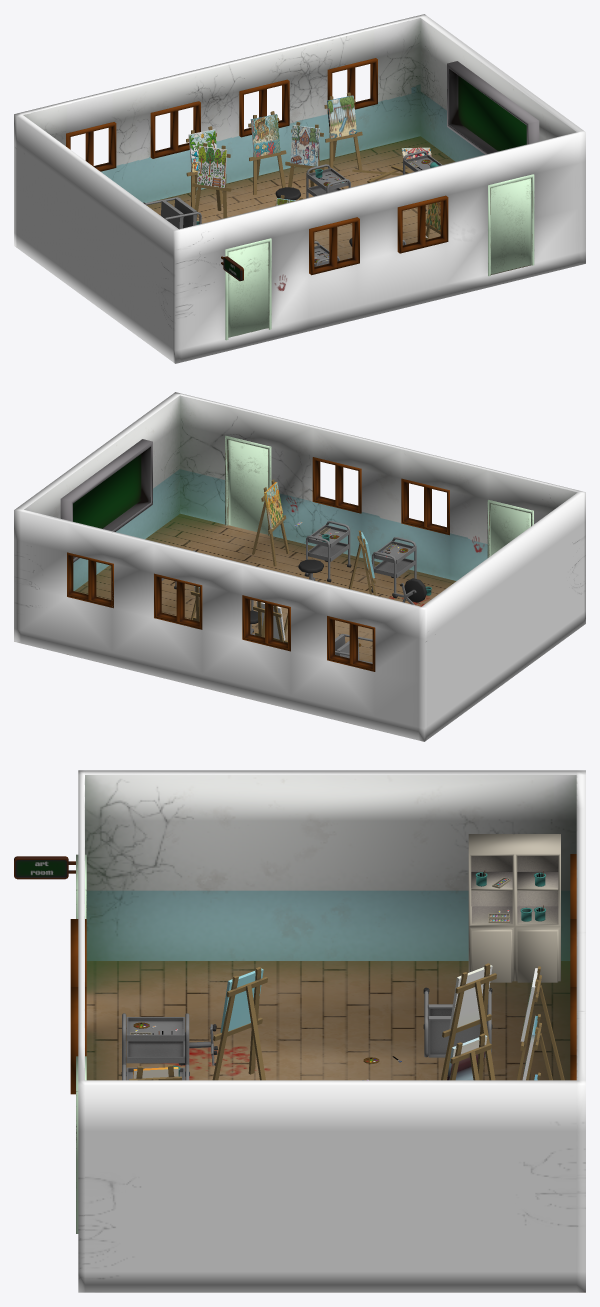
File: artroom.fbx
3 renders of one model, top to bottom at view 1: azimuth 30°, elevation 25°; view 2: azimuth 150°, elevation 25°; view 3: azimuth 270°, elevation 25°, orthographic. The views are drawn at different scales.
Parts seen in each view (by area): view 1: classroom.006, Cube.263, Cube.272, Cube.270, Cube.271, Cube.294, Cube.290, Cube.286, Cube.288, Cube.291, Cube.295, Cube.268 (+5 smaller); view 2: classroom.006, Cube.263, Cube.272, Cube.270, Cube.271, Cube.299, Cube.303, Cube.298, Cube.269, Cube.297, chair.025, Cube.301 (+1 smaller); view 3: classroom.006, shelf.011, Cube.263, Cube.303, Cube.301, Cube.291, Cube.289, classroomname.010, Cube.290, Cube.302, Cube.283, Cube.293 (+1 smaller).
Boxes of the visible parts, left/top/right/bottom form: classroom.006: left=14, top=14, right=585, bottom=363; Cube.263: left=66, top=58, right=448, bottom=275; Cube.272: left=447, top=61, right=539, bottom=154; Cube.270: left=491, top=178, right=531, bottom=274; Cube.271: left=228, top=242, right=268, bottom=337; Cube.294: left=290, top=125, right=320, bottom=166; Cube.290: left=197, top=146, right=227, bottom=187; Cube.286: left=250, top=114, right=280, bottom=157; Cube.288: left=327, top=95, right=356, bottom=138; Cube.291: left=143, top=197, right=201, bottom=229; Cube.295: left=306, top=164, right=350, bottom=198; Cube.268: left=225, top=238, right=271, bottom=340; classroom.006: left=14, top=392, right=585, bottom=741; Cube.263: left=67, top=457, right=449, bottom=671; Cube.272: left=60, top=439, right=152, bottom=562; Cube.270: left=228, top=439, right=268, bottom=534; Cube.271: left=490, top=503, right=530, bottom=555; Cube.299: left=304, top=521, right=351, bottom=582; Cube.303: left=371, top=537, right=416, bottom=598; Cube.298: left=264, top=482, right=283, bottom=528; Cube.269: left=225, top=435, right=271, bottom=535; Cube.297: left=252, top=479, right=289, bottom=566; chair.025: left=392, top=578, right=426, bottom=604; Cube.301: left=348, top=530, right=375, bottom=595; classroom.006: left=78, top=770, right=585, bottom=1292; shelf.011: left=468, top=834, right=560, bottom=982; Cube.263: left=70, top=854, right=576, bottom=1094; Cube.303: left=121, top=1013, right=189, bottom=1076; Cube.301: left=212, top=967, right=267, bottom=1080; Cube.291: left=423, top=987, right=492, bottom=1057; Cube.289: left=441, top=963, right=496, bottom=1080; classroomname.010: left=14, top=856, right=75, bottom=879; Cube.290: left=449, top=965, right=492, bottom=1029; Cube.302: left=220, top=968, right=263, bottom=1032; Cube.283: left=517, top=966, right=564, bottom=1080; Cube.293: left=450, top=1033, right=491, bottom=1080.
Size of the model in its own units: 579 by 177 by 444.
Materials: 13 (13 with a texture image).
